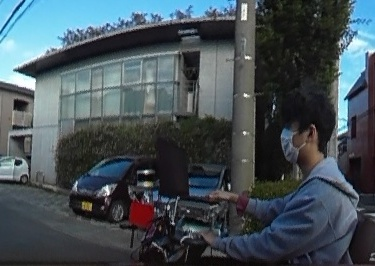person: (222, 89, 360, 266)
